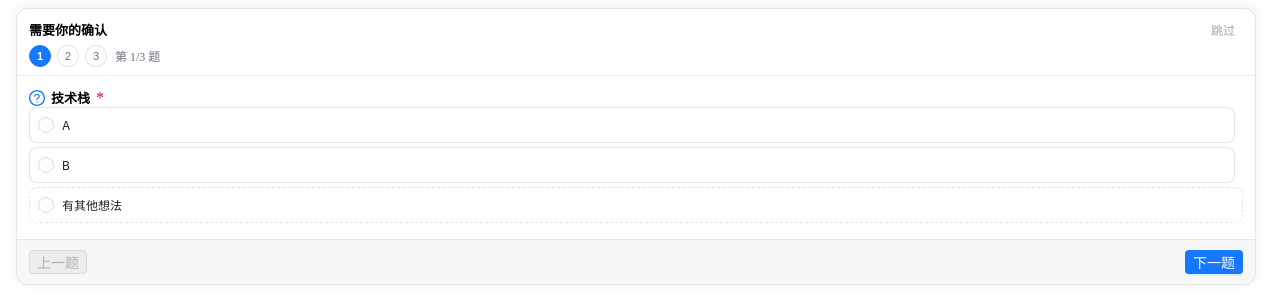
Test: ElicitationWizard › 单选取值后自动进入下一题
Click the radio button with test id "elicitation-option-q0-0": (46, 125) [29,107,1235,143]
Wait 320 ms
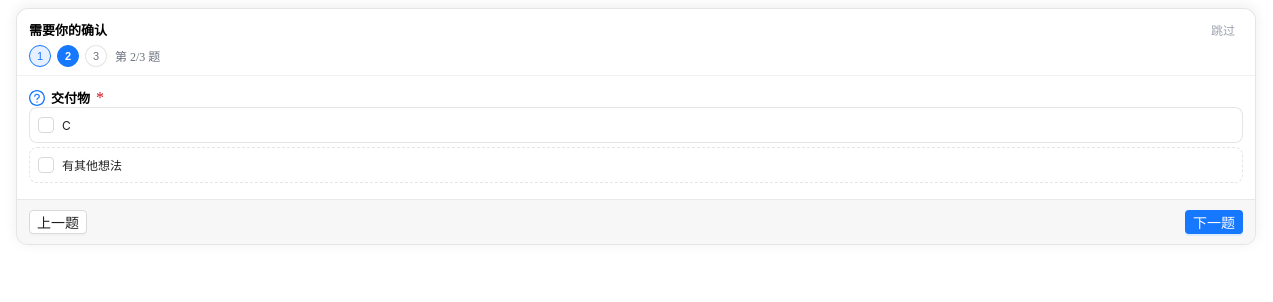
Now the text with test id "elicitation-count-r1" reads "第 2/3 题", box [115,47,160,65]
